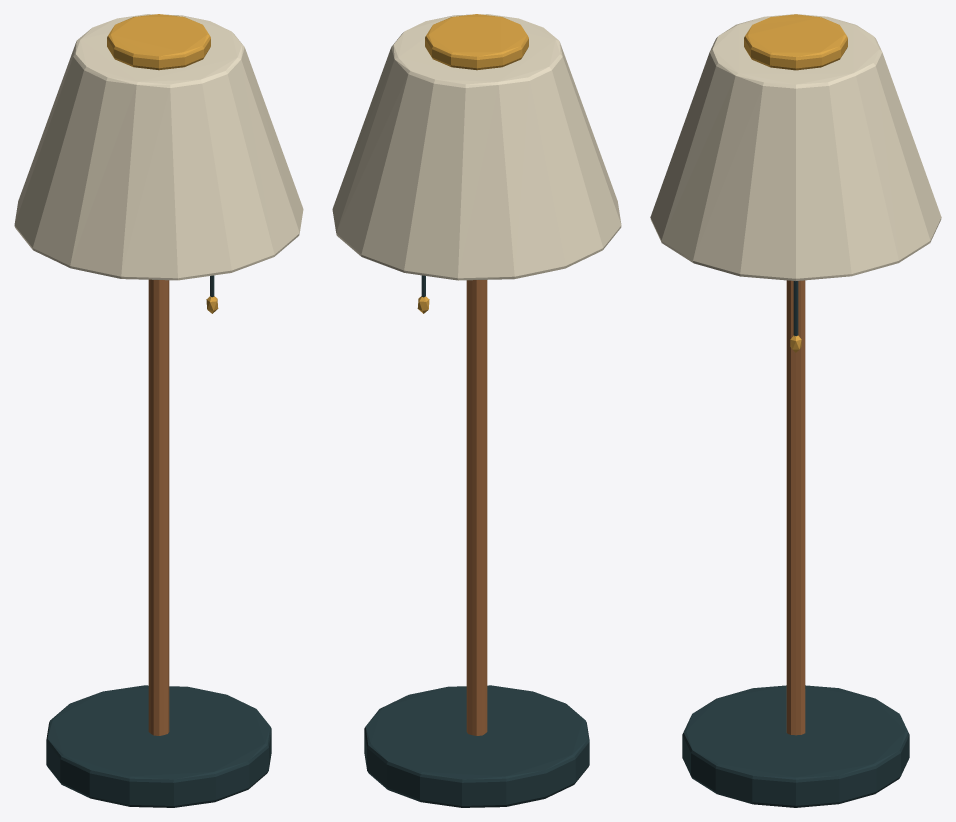
The model's file is floor-lamp-near.glb.
3 views of the same model, side by side, from view 1: azimuth 30°, elevation 25°; view 2: azimuth 150°, elevation 25°; view 3: azimuth 270°, elevation 25° (orthographic).
Visible parts, largest first — view 1: floor-lamp; view 2: floor-lamp; view 3: floor-lamp.
Boxes of the visible parts, x1,y1,x2,y2 form: floor-lamp: [14, 14, 303, 807]; floor-lamp: [332, 14, 621, 807]; floor-lamp: [650, 14, 941, 807].
Bounding box in the file's own units: 0.615 × 1.69 × 0.615.
